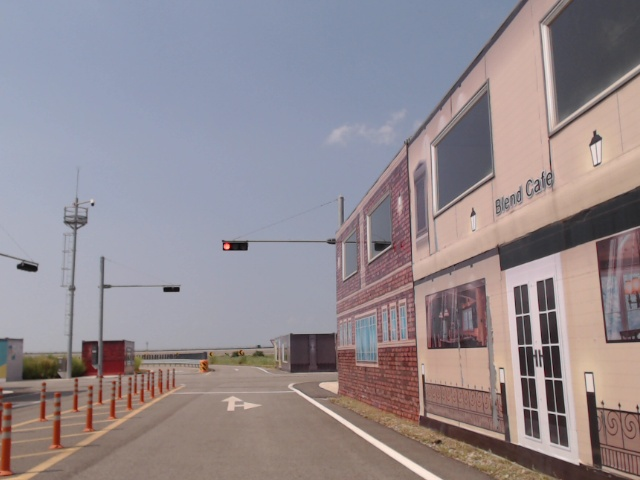red_3: (221, 241, 249, 252)
